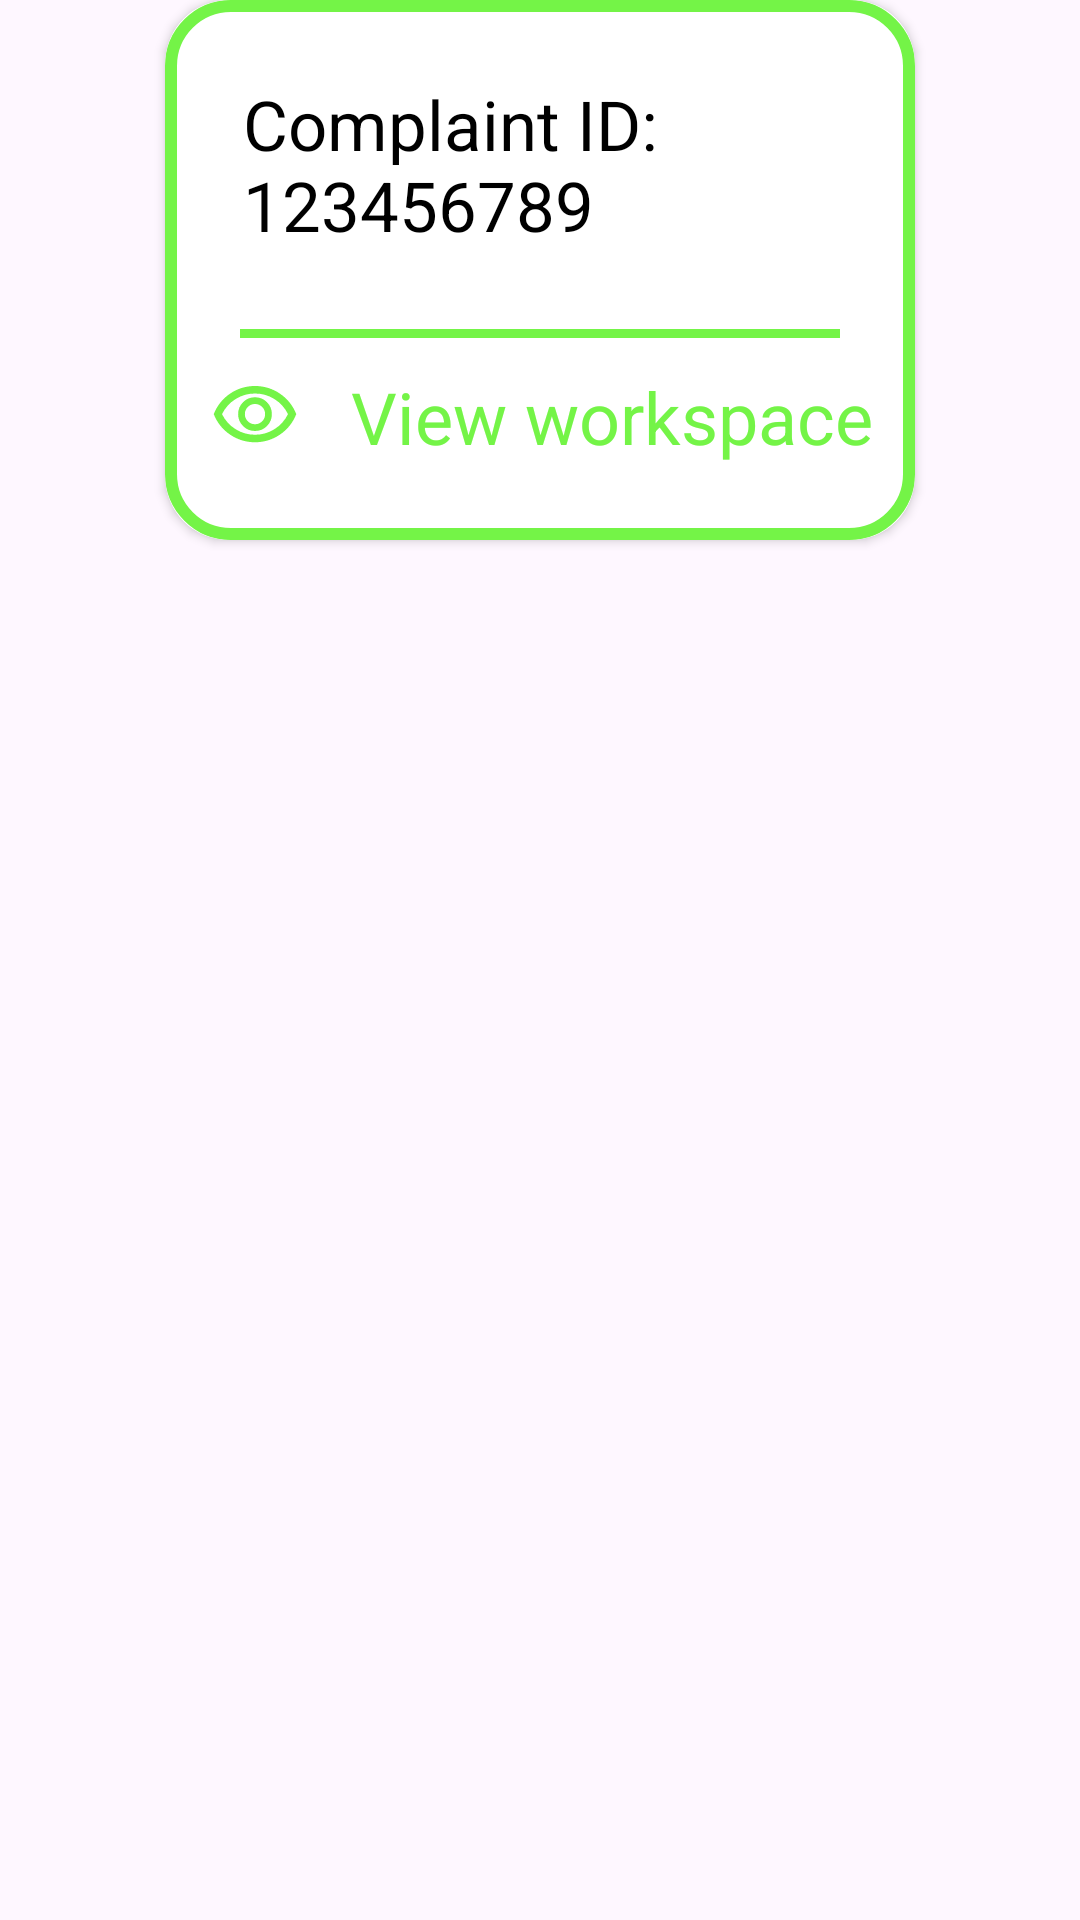

Where icons sit on this 1080 × 1920 app screen, as BBox(x1, y1, x2, y2):
visibility: BBox(214, 386, 296, 443)
